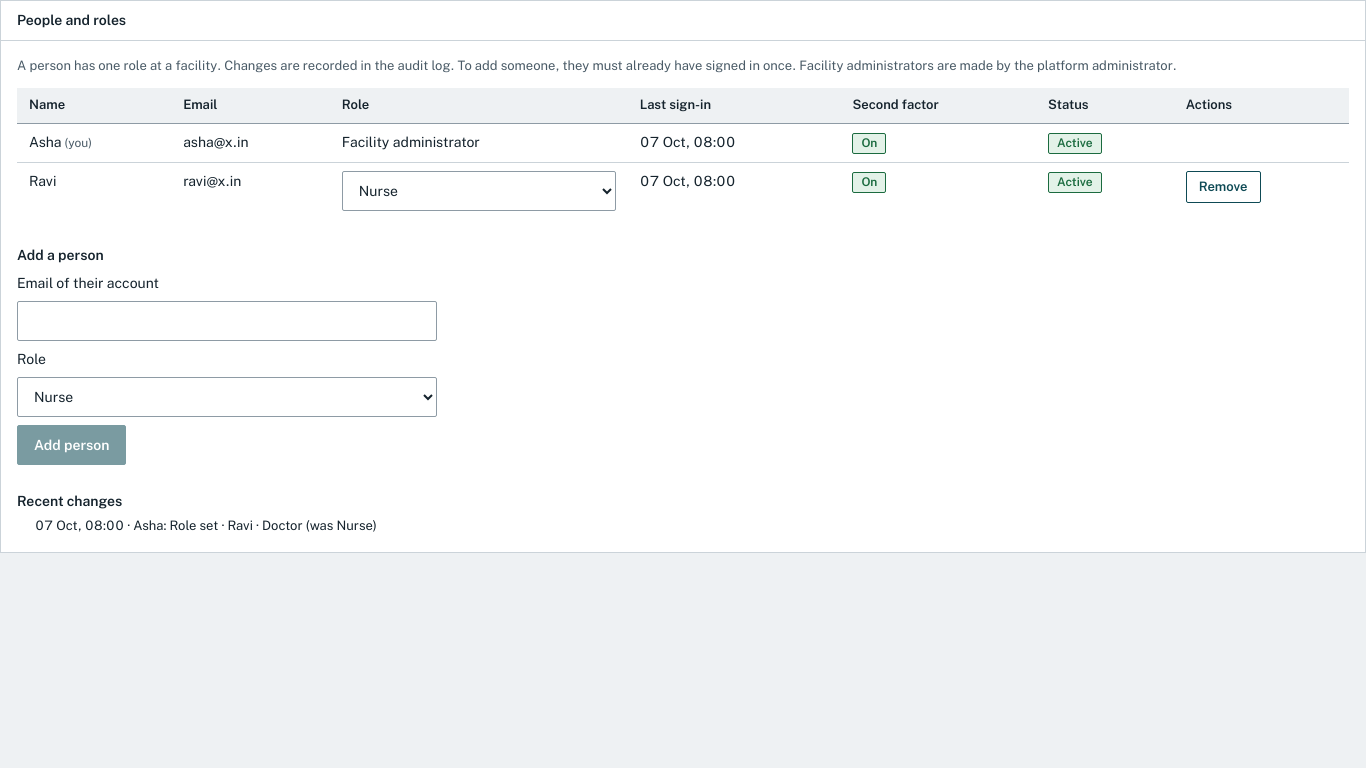
Scenario: MembersPanel › changes a role and reloads
The width and height of the screenshot is (1366, 768).
Select "Doctor" in the dropdown named "Role for Ravi": (479, 191) [342,171,616,211]
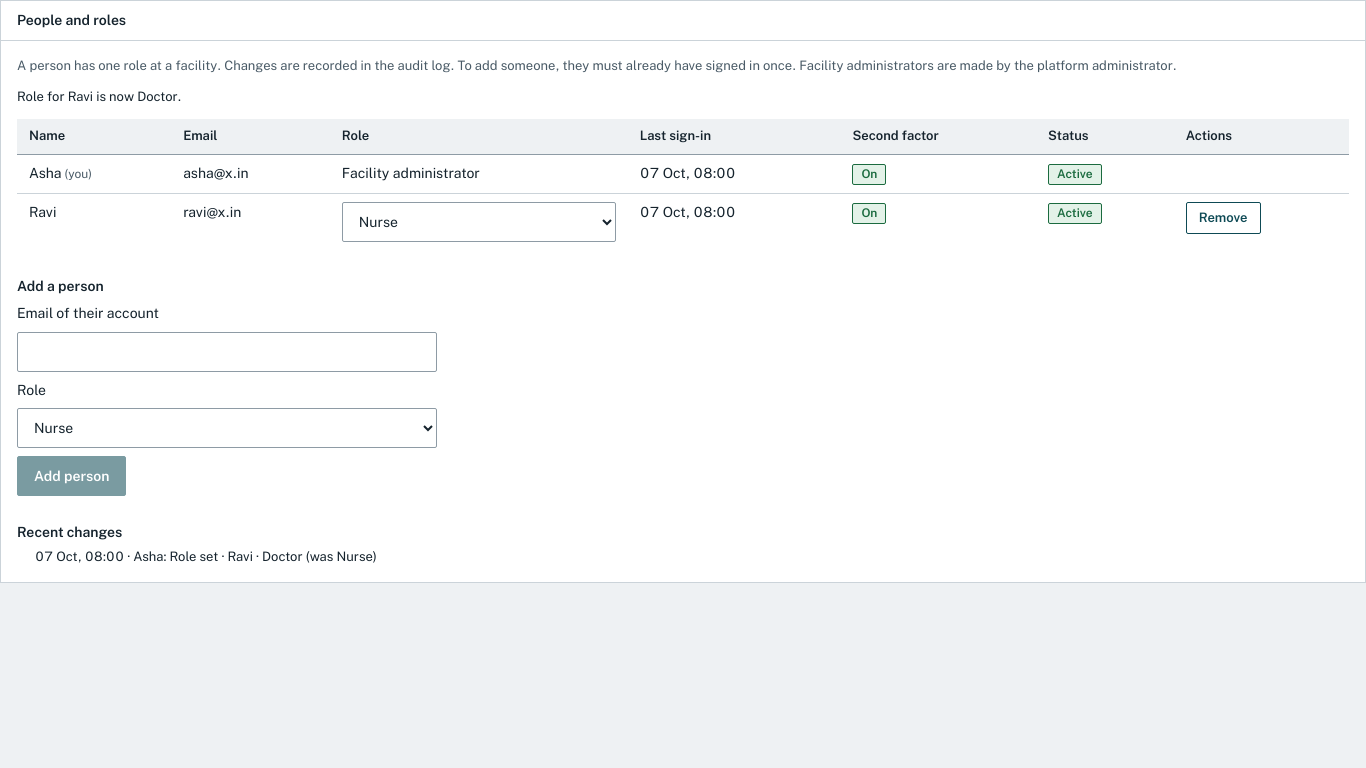
Now the text "Role for Ravi is now Doctor." is shown, box [17,89,182,104]
